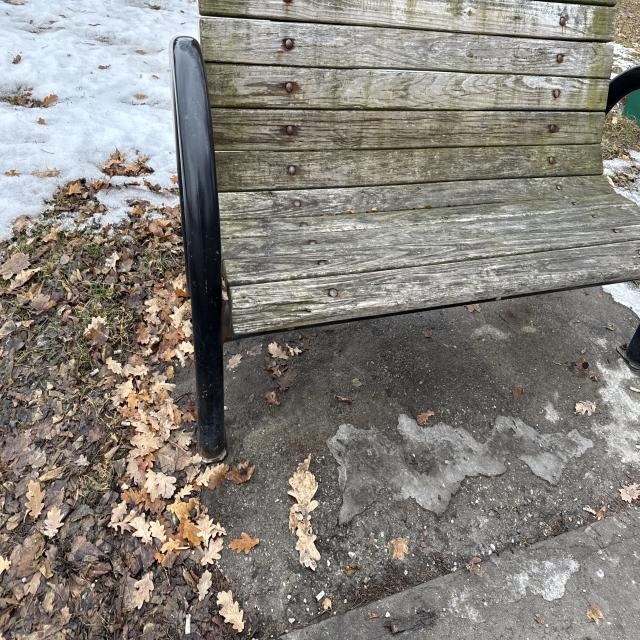Bench: (166, 6, 640, 405)
